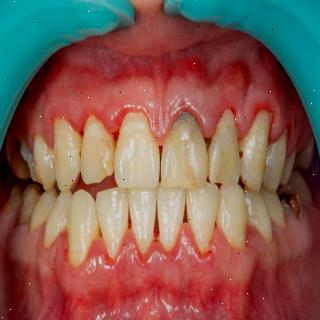LL1BC_mdecay: (245, 191, 274, 240)
LL1M_sdecay: (279, 187, 303, 219)
LL2BC_healthy: (264, 190, 288, 228)
LLCI_healthy: (157, 187, 186, 248)
LLC_healthy: (218, 188, 247, 249)
LLLI_healthy: (187, 186, 219, 248)
LR1BC_healthy: (44, 191, 72, 247)
LR1M_mdecay: (16, 186, 38, 228)
LR2BC_healthy: (31, 191, 57, 230)
LRCI_healthy: (128, 188, 158, 250)
LRC_healthy: (67, 190, 97, 264)
LRLI_healthy: (96, 187, 130, 259)
UL1BC_healthy: (262, 128, 287, 193)
ULCI_sdecay: (161, 112, 209, 186)
ULC_mdecay: (242, 110, 269, 190)
ULLI_healthy: (209, 107, 239, 187)
UR1BC_sdecay: (32, 137, 56, 189)
UR2BC_sdecay: (8, 138, 33, 183)
URCI_healthy: (113, 110, 162, 188)
URC_healthy: (52, 119, 82, 188)
URLI_mdecay: (80, 116, 115, 182)
